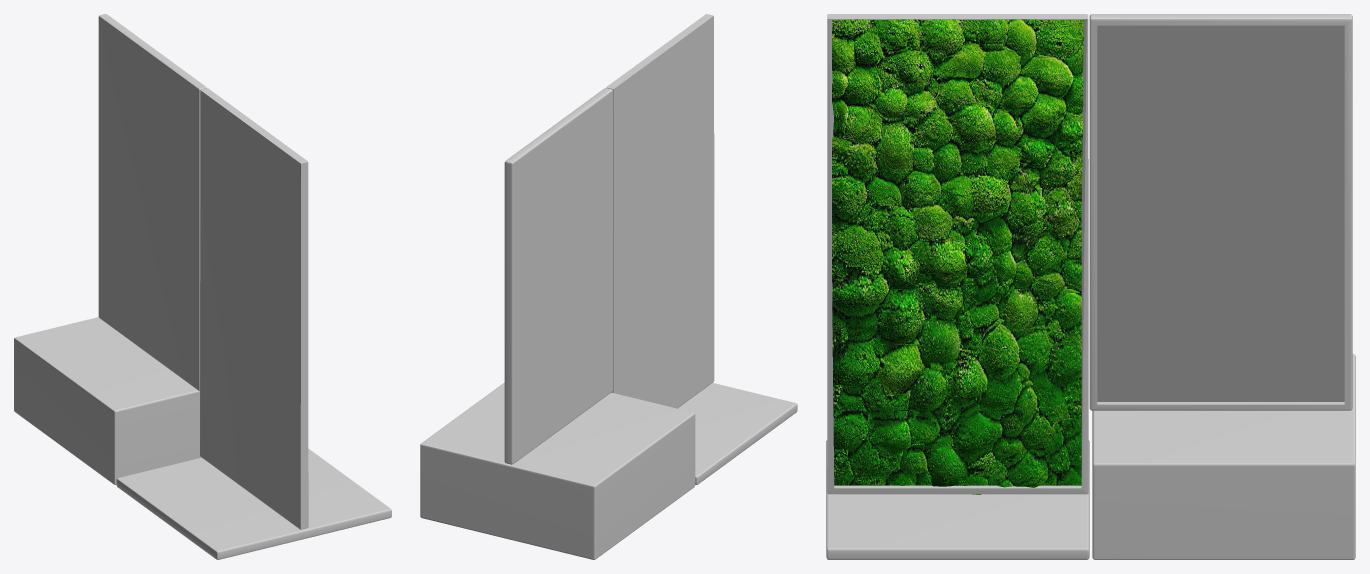
File: tablo2_waterWall.fbx
3 views of the same model, side by side, from view 1: azimuth 30°, elevation 25°; view 2: azimuth 150°, elevation 25°; view 3: azimuth 270°, elevation 25° (orthographic). The views are drawn at different scales.
Parts seen in each view (by area): view 1: edge, glass_edge, step1, step2; view 2: edge, glass_edge, step1, step2; view 3: glass, moss_, step1, moss_low, step2, glass_edge, edge.
Part boxes in pixels (left/top/right/bottom): edge: left=200, top=88, right=308, bottom=529; glass_edge: left=98, top=14, right=206, bottom=390; step1: left=14, top=317, right=201, bottom=484; step2: left=116, top=448, right=391, bottom=559; edge: left=606, top=14, right=714, bottom=408; glass_edge: left=504, top=88, right=612, bottom=464; step1: left=420, top=382, right=695, bottom=559; step2: left=678, top=383, right=797, bottom=484; glass: left=1097, top=25, right=1344, bottom=401; moss_: left=832, top=19, right=1083, bottom=494; step1: left=1092, top=354, right=1355, bottom=559; moss_low: left=834, top=23, right=1081, bottom=485; step2: left=826, top=440, right=1089, bottom=559; glass_edge: left=1089, top=14, right=1352, bottom=410; edge: left=827, top=14, right=1088, bottom=494.
Bounding box in the file's own units: 100 × 205 × 201.
Materials: 3 (1 with a texture image).
